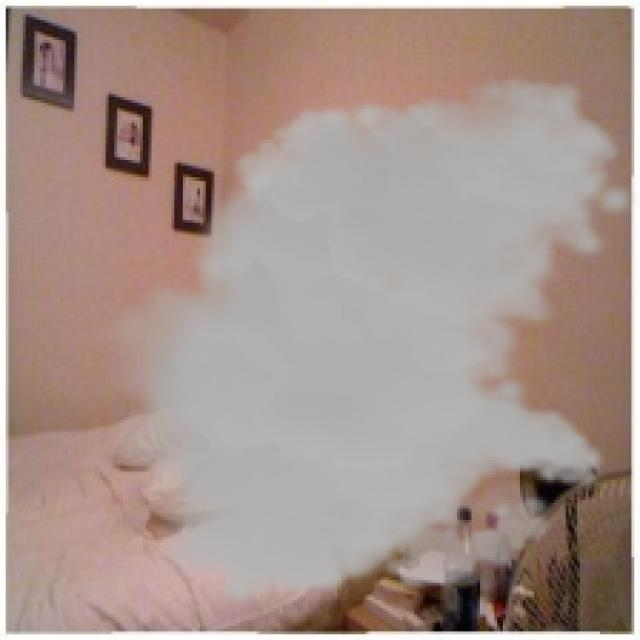Smoke: (92, 74, 638, 612)
